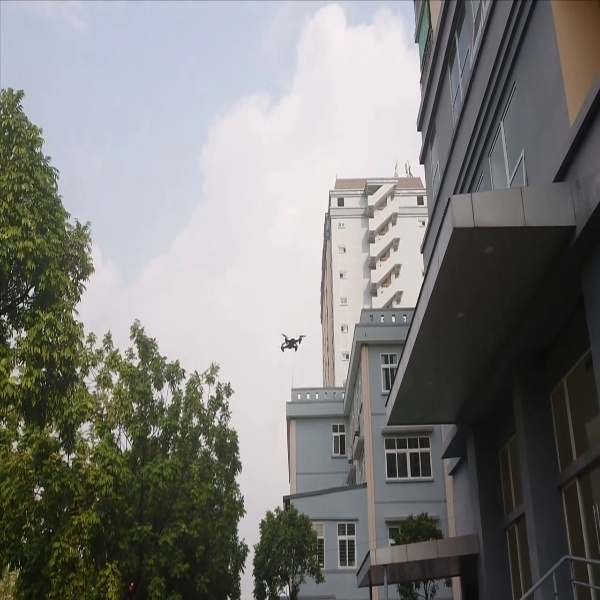drone: (276, 324, 308, 357)
